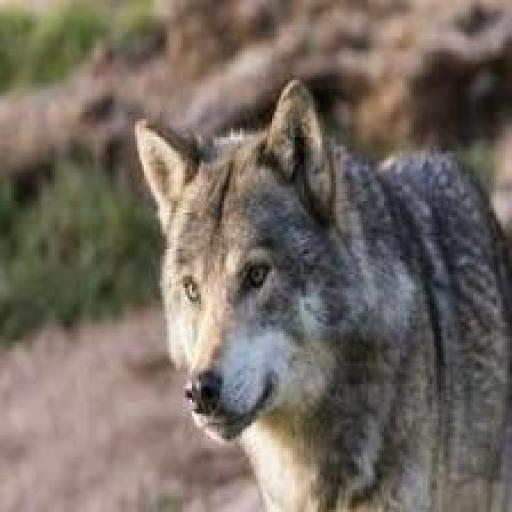wolf: (119, 59, 512, 511)
